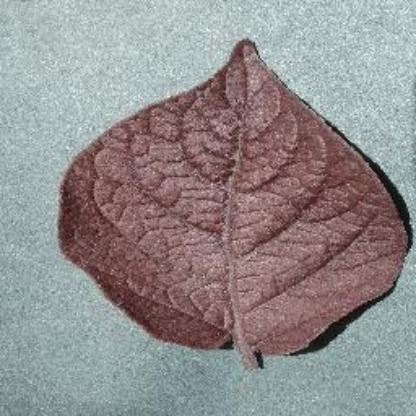Healthy-plant: (62, 52, 410, 369)
